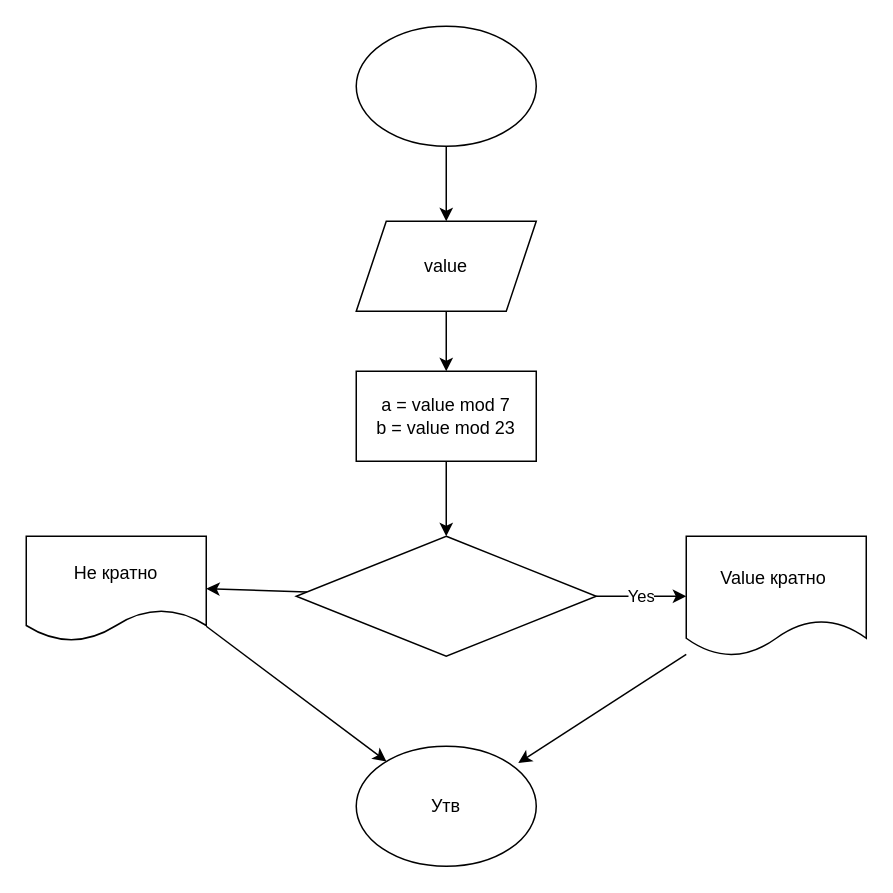
The diagram is 893 pixels wide and 893 high, and some of its shapes have lost their labels. Here are the shapes that lost their labels. From the top down, the centre of each, then its label:
(445,85): Start
(445,595): a = 0 b = 0
